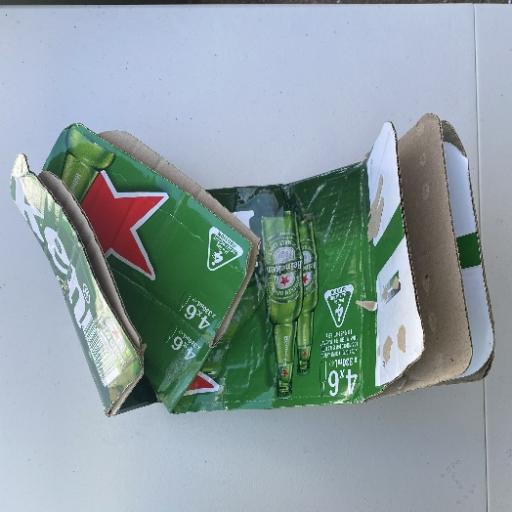Cardboard: (10, 112, 496, 418)
